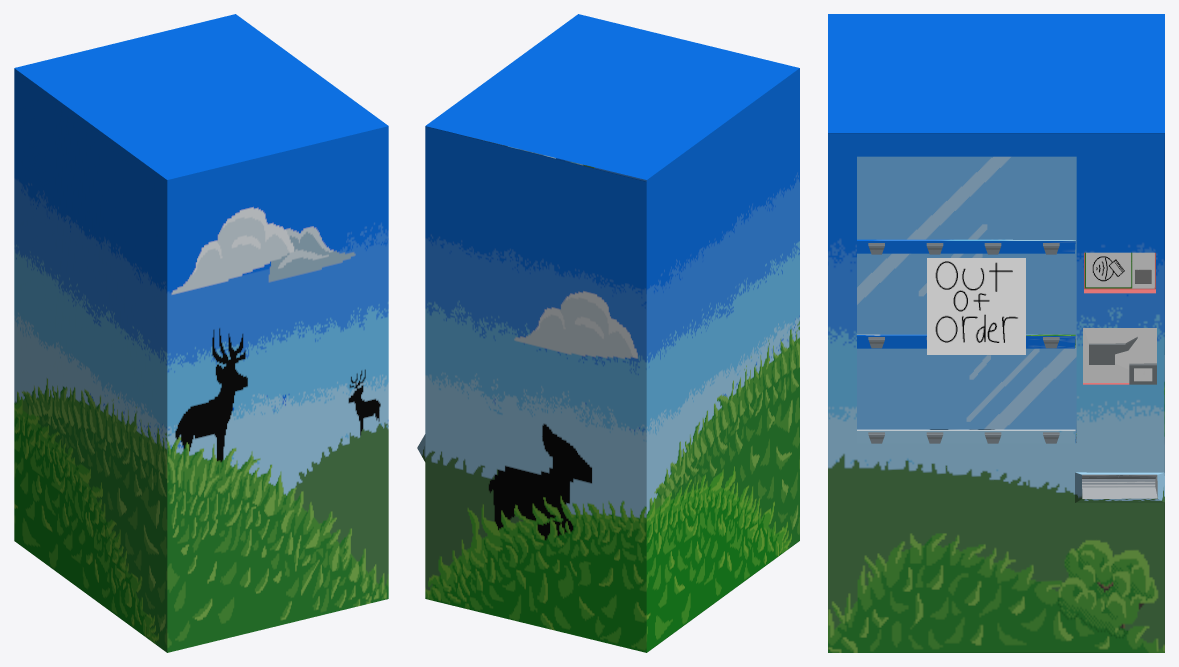
File: Vending Machine.fbx
3 views of the same model, side by side, from view 1: azimuth 30°, elevation 25°; view 2: azimuth 150°, elevation 25°; view 3: azimuth 270°, elevation 25° (orthographic). The views are drawn at different scales.
Parts seen in each view (by area): view 1: VENDING MACHINE; view 2: VENDING MACHINE; view 3: VENDING MACHINE, WINDOW, OUT OF ORDER sign, button display, buttons.
Boxes of the visible parts, x1,y1,x2,y2 form: VENDING MACHINE: [14, 14, 388, 652]; VENDING MACHINE: [417, 14, 799, 652]; VENDING MACHINE: [828, 14, 1164, 652]; WINDOW: [857, 156, 1076, 432]; OUT OF ORDER sign: [927, 258, 1025, 354]; button display: [857, 239, 1075, 443]; buttons: [868, 243, 1059, 443].
Bounding box in the file's own units: 110 × 207 × 122.
